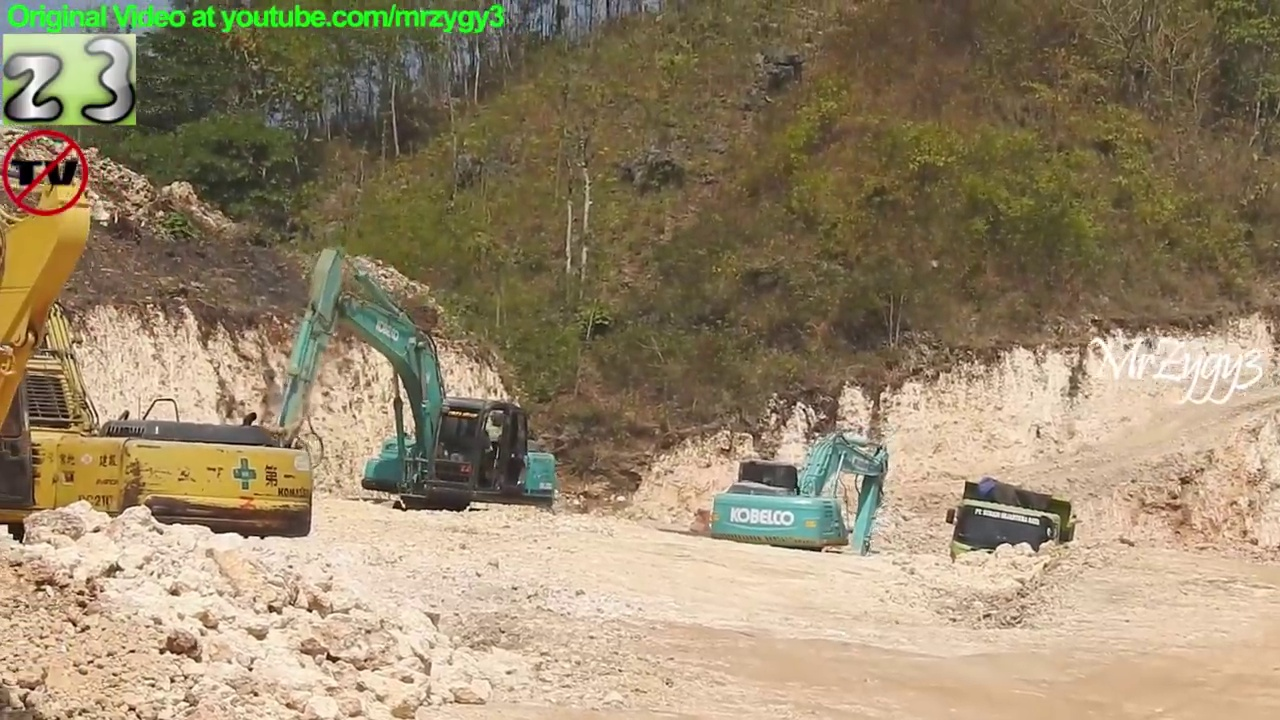excavator: (253, 243, 567, 545), (1, 288, 320, 554), (705, 421, 895, 588), (1, 172, 100, 448)
truck: (941, 472, 1086, 605)
